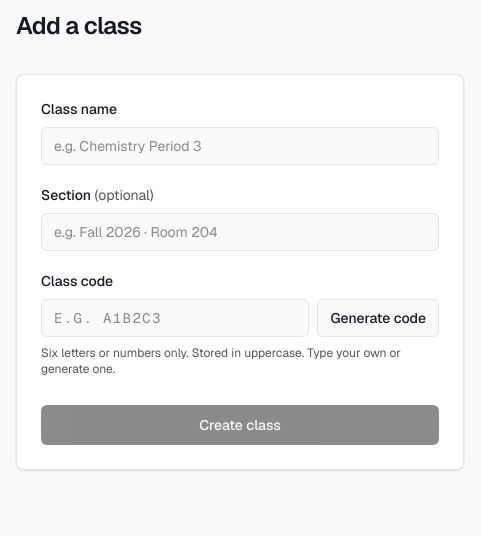
Test: create class form › shows a generation failure without clearing other inputs
Type "Chem 3" into the field labelled "Class name" at (240, 146), box 41,127 -> 439,165
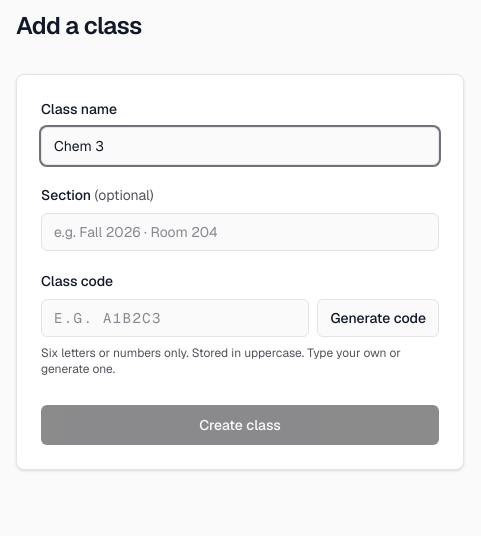
Click the button "Generate code" at (378, 318), box 317,299 -> 439,337
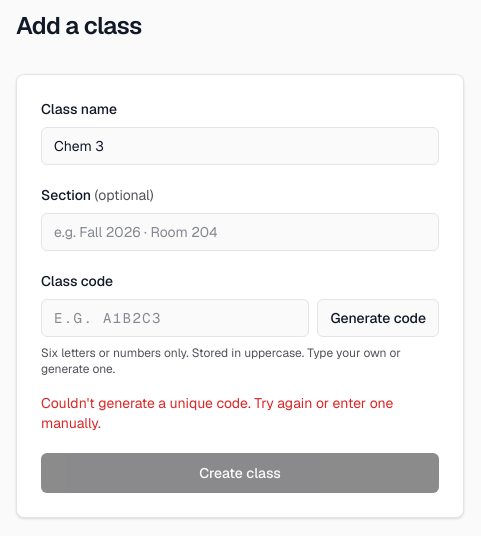
Expected: the message shows "unique code", 41,394 -> 393,432
